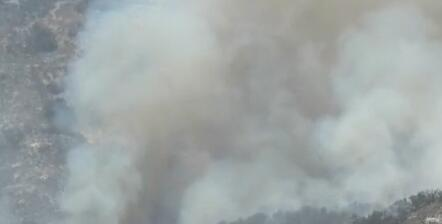yanwu: (53, 1, 442, 222)
